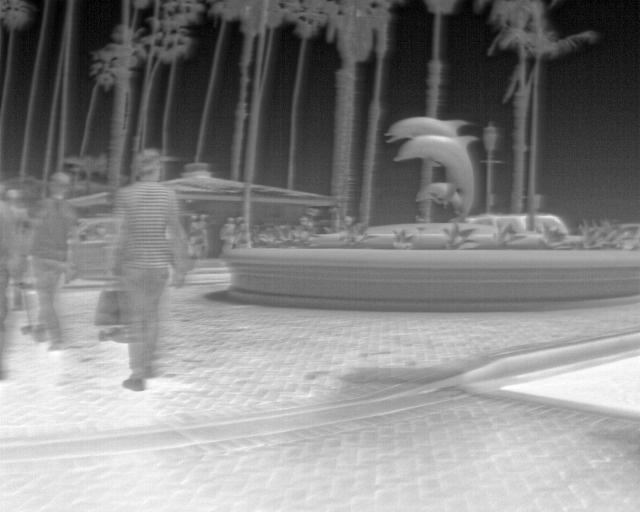bicycle: (59, 214, 112, 286), (463, 212, 526, 233), (534, 214, 570, 236)
empty: (102, 146, 184, 391), (24, 169, 74, 349), (3, 188, 24, 317), (219, 214, 237, 257), (232, 214, 251, 249), (195, 212, 210, 256)
